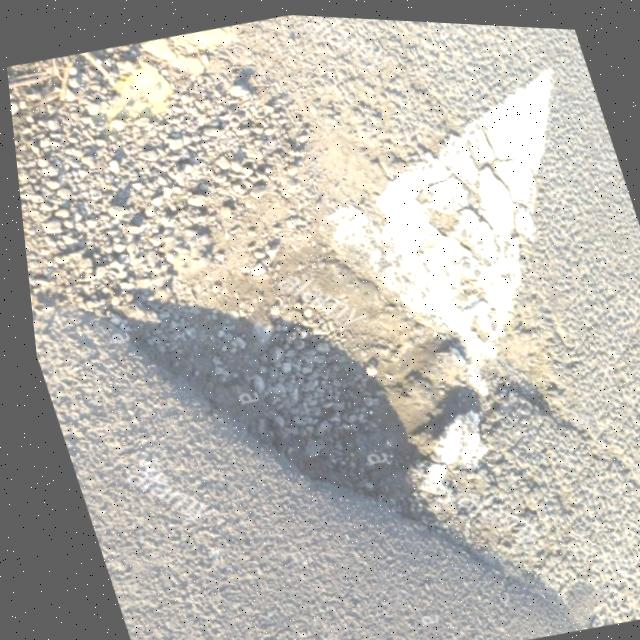Pothole: (49, 78, 540, 573)
